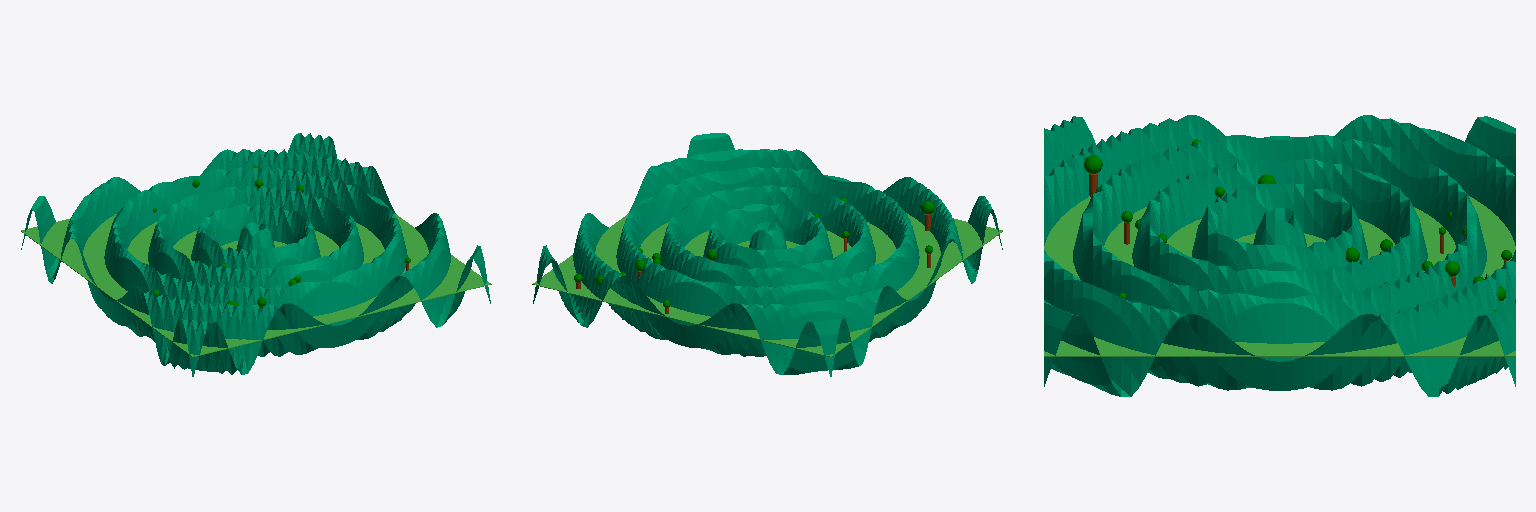
--- Render facts (derived) ---
The picture shows the robot from 3 angles, left to right: view 1: azimuth 30°, elevation 25°; view 2: azimuth 150°, elevation 25°; view 3: azimuth 270°, elevation 25°; orthographic projection.
Robot: environment — 28 links, 27 joints (27 fixed); root link root; default pose: every joint at zero.
Links seen in each view (by area): view 1: terrain, ground_plane; view 2: terrain, ground_plane; view 3: terrain, ground_plane.
Boxes of the visible links, x1,y1,x2,y2 form: terrain: (21,133,490,376); ground_plane: (21,214,491,356); terrain: (533,133,1002,376); ground_plane: (532,213,1002,356); terrain: (1044,115,1515,396); ground_plane: (1044,196,1515,356).
Bounding box of the posed robot: 50 × 50 × 10 m (x, y, z).
1 mesh visuals loaded from 1 distinct referenced files (1 OBJ).

The robot description file, URDF, robot "environment":
<?xml version="1.0" ?>
<robot name="environment">

        <link name="root">
            <inertial>
                <origin xyz="0 0 0" rpy="0 0 0"/>
                <mass value="0"/>
                <inertia ixx="1" ixy="0" ixz="0" iyy="1" iyz="0" izz="1"/>
            </inertial>
        </link>
    
        <link name="ground_plane">
            <inertial>
                <origin xyz="0 0 -0.05" rpy="0 0 0"/>
                <mass value="0"/>
                <inertia ixx="1" ixy="0" ixz="0" iyy="1" iyz="0" izz="1"/>
            </inertial>
            <collision>
                <geometry>
                    <box size="50 50 0.1"/>
                </geometry>
            </collision>
            <visual>
                <geometry>
                    <box size="50 50 0.1"/>
                </geometry>
                <material name="ground_color">
                    <color rgba="0.3 0.7 0.3 1.0"/> <!-- Greenish color -->
                </material>
            </visual>
        </link>
    
        <joint name="joint_ground_plane" type="fixed">
            <parent link="root"/>
            <child link="ground_plane"/>
            <origin xyz="0 0 0" rpy="0 0 0"/>
        </joint>
    
        <link name="terrain">
            <inertial>
                <origin xyz="0 0 0" rpy="0 0 0"/>
                <mass value="0"/>
                <inertia ixx="1" ixy="0" ixz="0" iyy="1" iyz="0" izz="1"/>
            </inertial>
            <collision>
                <geometry>
                    <mesh filename="terrain.obj"/>
                </geometry>
            </collision>
            <visual>
                <geometry>
                    <mesh filename="terrain.obj"/>
                </geometry>
            </visual>
        </link>
    
        <joint name="joint_terrain" type="fixed">
            <parent link="root"/>
            <child link="terrain"/>
            <origin xyz="0 0 0" rpy="0 0 0"/>
        </joint>
    
        <link name="tree_0">
            <!-- Trunk (cylinder) -->
            <collision name="trunk_collision">
                <origin xyz="0 0 0.5996430116396985" rpy="0 0 0"/>
                <geometry>
                    <cylinder length="1.199286023279397" radius="0.3406641067586877"/>
                </geometry>
            </collision>
            <visual name="trunk_visual">
                <origin xyz="0 0 0.5996430116396985" rpy="0 0 0"/>
                <geometry>
                    <cylinder length="1.199286023279397" radius="0.3406641067586877"/>
                </geometry>
                <material name="brown">
                    <color rgba="0.545 0.271 0.075 1.0"/> <!-- Brown color -->
                </material>
            </visual>
            
            <!-- Foliage (sphere) -->
            <collision name="foliage_collision">
                <origin xyz="0 0 1.8806142367967724" rpy="0 0 0"/>
                <geometry>
                    <sphere radius="0.6813282135173754"/>
                </geometry>
            </collision>
            <visual name="foliage_visual">
                <origin xyz="0 0 1.8806142367967724" rpy="0 0 0"/>
                <geometry>
                    <sphere radius="0.6813282135173754"/>
                </geometry>
                <material name="dark_green">
                    <color rgba="0 0.5 0 1.0"/> <!-- Dark green color -->
                </material>
            </visual>

            <inertial>
                <origin xyz="0 0 1.280971225157074" rpy="0 0 0"/>
                <mass value="10"/> <!-- Using the trunk mass for the whole tree, but this can be refined further -->
                <inertia ixx="0.5802601681684728" ixy="0" ixz="0" iyy="0.5802601681684728" iyz="0" izz="1.1605203363369456"/>
            </inertial>
        </link>
    
        <joint name="joint_tree_0" type="fixed">
            <parent link="root"/>
            <child link="tree_0"/>
            <origin xyz="11.948025421138318 11.519408089252302 0" rpy="0 0 0"/>
        </joint>
    
        <link name="tree_1">
            <!-- Trunk (cylinder) -->
            <collision name="trunk_collision">
                <origin xyz="0 0 1.0813332220270095" rpy="0 0 0"/>
                <geometry>
                    <cylinder length="2.162666444054019" radius="0.3407469483732677"/>
                </geometry>
            </collision>
            <visual name="trunk_visual">
                <origin xyz="0 0 1.0813332220270095" rpy="0 0 0"/>
                <geometry>
                    <cylinder length="2.162666444054019" radius="0.3407469483732677"/>
                </geometry>
                <material name="brown">
                    <color rgba="0.545 0.271 0.075 1.0"/> <!-- Brown color -->
                </material>
            </visual>
            
            <!-- Foliage (sphere) -->
            <collision name="foliage_collision">
                <origin xyz="0 0 2.8441603408005545" rpy="0 0 0"/>
                <geometry>
                    <sphere radius="0.6814938967465354"/>
                </geometry>
            </collision>
            <visual name="foliage_visual">
                <origin xyz="0 0 2.8441603408005545" rpy="0 0 0"/>
                <geometry>
                    <sphere radius="0.6814938967465354"/>
                </geometry>
                <material name="dark_green">
                    <color rgba="0 0.5 0 1.0"/> <!-- Dark green color -->
                </material>
            </visual>

            <inertial>
                <origin xyz="0 0 1.762827118773545" rpy="0 0 0"/>
                <mass value="10"/> <!-- Using the trunk mass for the whole tree, but this can be refined further -->
                <inertia ixx="0.5805424141284719" ixy="0" ixz="0" iyy="0.5805424141284719" iyz="0" izz="1.1610848282569437"/>
            </inertial>
        </link>
    
        <joint name="joint_tree_1" type="fixed">
            <parent link="root"/>
            <child link="tree_1"/>
            <origin xyz="-9.934047274985636 -18.90864924617136 0" rpy="0 0 0"/>
        </joint>
    
        <link name="tree_2">
            <!-- Trunk (cylinder) -->
            <collision name="trunk_collision">
                <origin xyz="0 0 0.532341764134034" rpy="0 0 0"/>
                <geometry>
                    <cylinder length="1.064683528268068" radius="0.2854548021140997"/>
                </geometry>
            </collision>
            <visual name="trunk_visual">
                <origin xyz="0 0 0.532341764134034" rpy="0 0 0"/>
                <geometry>
                    <cylinder length="1.064683528268068" radius="0.2854548021140997"/>
                </geometry>
                <material name="brown">
                    <color rgba="0.545 0.271 0.075 1.0"/> <!-- Brown color -->
                </material>
            </visual>
            
            <!-- Foliage (sphere) -->
            <collision name="foliage_collision">
                <origin xyz="0 0 1.6355931324962674" rpy="0 0 0"/>
                <geometry>
                    <sphere radius="0.5709096042281994"/>
                </geometry>
            </collision>
            <visual name="foliage_visual">
                <origin xyz="0 0 1.6355931324962674" rpy="0 0 0"/>
                <geometry>
                    <sphere radius="0.5709096042281994"/>
                </geometry>
                <material name="dark_green">
                    <color rgba="0 0.5 0 1.0"/> <!-- Dark green color -->
                </material>
            </visual>

            <inertial>
                <origin xyz="0 0 1.1032513683622334" rpy="0 0 0"/>
                <mass value="10"/> <!-- Using the trunk mass for the whole tree, but this can be refined further -->
                <inertia ixx="0.4074222202499991" ixy="0" ixz="0" iyy="0.4074222202499991" iyz="0" izz="0.8148444404999982"/>
            </inertial>
        </link>
    
        <joint name="joint_tree_2" type="fixed">
            <parent link="root"/>
            <child link="tree_2"/>
            <origin xyz="-0.7882544350234717 -12.517028062190233 0" rpy="0 0 0"/>
        </joint>
    
        <link name="tree_3">
            <!-- Trunk (cylinder) -->
            <collision name="trunk_collision">
                <origin xyz="0 0 0.9814742911687262" rpy="0 0 0"/>
                <geometry>
                    <cylinder length="1.9629485823374524" radius="0.3323499947751118"/>
                </geometry>
            </collision>
            <visual name="trunk_visual">
                <origin xyz="0 0 0.9814742911687262" rpy="0 0 0"/>
                <geometry>
                    <cylinder length="1.9629485823374524" radius="0.3323499947751118"/>
                </geometry>
                <material name="brown">
                    <color rgba="0.545 0.271 0.075 1.0"/> <!-- Brown color -->
                </material>
            </visual>
            
            <!-- Foliage (sphere) -->
            <collision name="foliage_collision">
                <origin xyz="0 0 2.627648571887676" rpy="0 0 0"/>
                <geometry>
                    <sphere radius="0.6646999895502236"/>
                </geometry>
            </collision>
            <visual name="foliage_visual">
                <origin xyz="0 0 2.627648571887676" rpy="0 0 0"/>
                <geometry>
                    <sphere radius="0.6646999895502236"/>
                </geometry>
                <material name="dark_green">
                    <color rgba="0 0.5 0 1.0"/> <!-- Dark green color -->
                </material>
            </visual>

            <inertial>
                <origin xyz="0 0 1.6461742807189497" rpy="0 0 0"/>
                <mass value="10"/> <!-- Using the trunk mass for the whole tree, but this can be refined further -->
                <inertia ixx="0.5522825951350842" ixy="0" ixz="0" iyy="0.5522825951350842" iyz="0" izz="1.1045651902701683"/>
            </inertial>
        </link>
    
        <joint name="joint_tree_3" type="fixed">
            <parent link="root"/>
            <child link="tree_3"/>
            <origin xyz="12.16579089381188 21.132534835362172 0" rpy="0 0 0"/>
        </joint>
    
        <link name="tree_4">
            <!-- Trunk (cylinder) -->
            <collision name="trunk_collision">
                <origin xyz="0 0 1.1878052840056328" rpy="0 0 0"/>
                <geometry>
                    <cylinder length="2.3756105680112656" radius="0.28998131001357164"/>
                </geometry>
            </collision>
            <visual name="trunk_visual">
                <origin xyz="0 0 1.1878052840056328" rpy="0 0 0"/>
                <geometry>
                    <cylinder length="2.3756105680112656" radius="0.28998131001357164"/>
                </geometry>
                <material name="brown">
                    <color rgba="0.545 0.271 0.075 1.0"/> <!-- Brown color -->
                </material>
            </visual>
            
            <!-- Foliage (sphere) -->
            <collision name="foliage_collision">
                <origin xyz="0 0 2.955573188038409" rpy="0 0 0"/>
                <geometry>
                    <sphere radius="0.5799626200271433"/>
                </geometry>
            </collision>
            <visual name="foliage_visual">
                <origin xyz="0 0 2.955573188038409" rpy="0 0 0"/>
                <geometry>
                    <sphere radius="0.5799626200271433"/>
                </geometry>
                <material name="dark_green">
                    <color rgba="0 0.5 0 1.0"/> <!-- Dark green color -->
                </material>
            </visual>

            <inertial>
                <origin xyz="0 0 1.767767904032776" rpy="0 0 0"/>
                <mass value="10"/> <!-- Using the trunk mass for the whole tree, but this can be refined further -->
                <inertia ixx="0.42044580078593574" ixy="0" ixz="0" iyy="0.42044580078593574" iyz="0" izz="0.8408916015718715"/>
            </inertial>
        </link>
    
        <joint name="joint_tree_4" type="fixed">
            <parent link="root"/>
            <child link="tree_4"/>
            <origin xyz="-1.64311374934789 -14.805134412026561 0" rpy="0 0 0"/>
        </joint>
    
        <link name="tree_5">
            <!-- Trunk (cylinder) -->
            <collision name="trunk_collision">
                <origin xyz="0 0 1.304044293926479" rpy="0 0 0"/>
                <geometry>
                    <cylinder length="2.608088587852958" radius="0.49888896950934386"/>
                </geometry>
            </collision>
            <visual name="trunk_visual">
                <origin xyz="0 0 1.304044293926479" rpy="0 0 0"/>
                <geometry>
                    <cylinder length="2.608088587852958" radius="0.49888896950934386"/>
                </geometry>
                <material name="brown">
                    <color rgba="0.545 0.271 0.075 1.0"/> <!-- Brown color -->
                </material>
            </visual>
            
            <!-- Foliage (sphere) -->
            <collision name="foliage_collision">
                <origin xyz="0 0 3.6058665268716457" rpy="0 0 0"/>
                <geometry>
                    <sphere radius="0.9977779390186877"/>
                </geometry>
            </collision>
            <visual name="foliage_visual">
                <origin xyz="0 0 3.6058665268716457" rpy="0 0 0"/>
                <geometry>
                    <sphere radius="0.9977779390186877"/>
                </geometry>
                <material name="dark_green">
                    <color rgba="0 0.5 0 1.0"/> <!-- Dark green color -->
                </material>
            </visual>

            <inertial>
                <origin xyz="0 0 2.3018222329451667" rpy="0 0 0"/>
                <mass value="10"/> <!-- Using the trunk mass for the whole tree, but this can be refined further -->
                <inertia ixx="1.2444510194904752" ixy="0" ixz="0" iyy="1.2444510194904752" iyz="0" izz="2.4889020389809504"/>
            </inertial>
        </link>
    
        <joint name="joint_tree_5" type="fixed">
            <parent link="root"/>
            <child link="tree_5"/>
            <origin xyz="-15.379580251750852 -19.81397397872788 0" rpy="0 0 0"/>
        </joint>
    
        <link name="tree_6">
            <!-- Trunk (cylinder) -->
            <collision name="trunk_collision">
                <origin xyz="0 0 0.5029585238771646" rpy="0 0 0"/>
                <geometry>
                    <cylinder length="1.005917047754329" radius="0.3192838313051147"/>
                </geometry>
            </collision>
            <visual name="trunk_visual">
                <origin xyz="0 0 0.5029585238771646" rpy="0 0 0"/>
                <geometry>
                    <cylinder length="1.005917047754329" radius="0.3192838313051147"/>
                </geometry>
                <material name="brown">
                    <color rgba="0.545 0.271 0.075 1.0"/> <!-- Brown color -->
                </material>
            </visual>
            
            <!-- Foliage (sphere) -->
            <collision name="foliage_collision">
                <origin xyz="0 0 1.6444847103645586" rpy="0 0 0"/>
                <geometry>
                    <sphere radius="0.6385676626102293"/>
                </geometry>
            </collision>
            <visual name="foliage_visual">
                <origin xyz="0 0 1.6444847103645586" rpy="0 0 0"/>
                <geometry>
                    <sphere radius="0.6385676626102293"/>
                </geometry>
                <material name="dark_green">
                    <color rgba="0 0.5 0 1.0"/> <!-- Dark green color -->
                </material>
            </visual>

            <inertial>
                <origin xyz="0 0 1.1415261864873938" rpy="0 0 0"/>
                <mass value="10"/> <!-- Using the trunk mass for the whole tree, but this can be refined further -->
                <inertia ixx="0.5097108246643646" ixy="0" ixz="0" iyy="0.5097108246643646" iyz="0" izz="1.0194216493287291"/>
            </inertial>
        </link>
    
        <joint name="joint_tree_6" type="fixed">
            <parent link="root"/>
            <child link="tree_6"/>
            <origin xyz="18.488172834970058 22.957965662669473 0" rpy="0 0 0"/>
        </joint>
    
        <link name="tree_7">
            <!-- Trunk (cylinder) -->
            <collision name="trunk_collision">
                <origin xyz="0 0 1.3618291482598335" rpy="0 0 0"/>
                <geometry>
                    <cylinder length="2.723658296519667" radius="0.27122111345131394"/>
                </geometry>
            </collision>
            <visual name="trunk_visual">
                <origin xyz="0 0 1.3618291482598335" rpy="0 0 0"/>
                <geometry>
                    <cylinder length="2.723658296519667" radius="0.27122111345131394"/>
                </geometry>
                <material name="brown">
                    <color rgba="0.545 0.271 0.075 1.0"/> <!-- Brown color -->
                </material>
            </visual>
            
            <!-- Foliage (sphere) -->
            <collision name="foliage_collision">
                <origin xyz="0 0 3.2661005234222946" rpy="0 0 0"/>
                <geometry>
                    <sphere radius="0.5424422269026279"/>
                </geometry>
            </collision>
            <visual name="foliage_visual">
                <origin xyz="0 0 3.2661005234222946" rpy="0 0 0"/>
                <geometry>
                    <sphere radius="0.5424422269026279"/>
                </geometry>
                <material name="dark_green">
                    <color rgba="0 0.5 0 1.0"/> <!-- Dark green color -->
                </material>
            </visual>

            <inertial>
                <origin xyz="0 0 1.9042713751624614" rpy="0 0 0"/>
                <mass value="10"/> <!-- Using the trunk mass for the whole tree, but this can be refined further -->
                <inertia ixx="0.3678044619088525" ixy="0" ixz="0" iyy="0.3678044619088525" iyz="0" izz="0.735608923817705"/>
            </inertial>
        </link>
    
        <joint name="joint_tree_7" type="fixed">
            <parent link="root"/>
            <child link="tree_7"/>
            <origin xyz="-9.262282485212058 -6.410730488483445 0" rpy="0 0 0"/>
        </joint>
    
        <link name="tree_8">
            <!-- Trunk (cylinder) -->
            <collision name="trunk_collision">
                <origin xyz="0 0 0.7325827319463079" rpy="0 0 0"/>
                <geometry>
                    <cylinder length="1.4651654638926157" radius="0.44234801459906303"/>
                </geometry>
            </collision>
            <visual name="trunk_visual">
                <origin xyz="0 0 0.7325827319463079" rpy="0 0 0"/>
                <geometry>
                    <cylinder length="1.4651654638926157" radius="0.44234801459906303"/>
                </geometry>
                <material name="brown">
                    <color rgba="0.545 0.271 0.075 1.0"/> <!-- Brown color -->
                </material>
            </visual>
            
            <!-- Foliage (sphere) -->
            <collision name="foliage_collision">
                <origin xyz="0 0 2.3498614930907418" rpy="0 0 0"/>
                <geometry>
                    <sphere radius="0.8846960291981261"/>
                </geometry>
            </collision>
            <visual name="foliage_visual">
                <origin xyz="0 0 2.3498614930907418" rpy="0 0 0"/>
                <geometry>
                    <sphere radius="0.8846960291981261"/>
                </geometry>
                <material name="dark_green">
                    <color rgba="0 0.5 0 1.0"/> <!-- Dark green color -->
                </material>
            </visual>

            <inertial>
                <origin xyz="0 0 1.617278761144434" rpy="0 0 0"/>
                <mass value="10"/> <!-- Using the trunk mass for the whole tree, but this can be refined further -->
                <inertia ixx="0.9783588300986644" ixy="0" ixz="0" iyy="0.9783588300986644" iyz="0" izz="1.9567176601973288"/>
            </inertial>
        </link>
    
        <joint name="joint_tree_8" type="fixed">
            <parent link="root"/>
            <child link="tree_8"/>
            <origin xyz="14.42786742207472 23.15237298429563 0" rpy="0 0 0"/>
        </joint>
    
        <link name="tree_9">
            <!-- Trunk (cylinder) -->
            <collision name="trunk_collision">
                <origin xyz="0 0 1.385558665846725" rpy="0 0 0"/>
                <geometry>
                    <cylinder length="2.77111733169345" radius="0.3672121962586579"/>
                </geometry>
            </collision>
            <visual name="trunk_visual">
                <origin xyz="0 0 1.385558665846725" rpy="0 0 0"/>
                <geometry>
                    <cylinder length="2.77111733169345" radius="0.3672121962586579"/>
                </geometry>
                <material name="brown">
                    <color rgba="0.545 0.271 0.075 1.0"/> <!-- Brown color -->
                </material>
            </visual>
            
            <!-- Foliage (sphere) -->
            <collision name="foliage_collision">
                <origin xyz="0 0 3.5055417242107656" rpy="0 0 0"/>
                <geometry>
                    <sphere radius="0.7344243925173158"/>
                </geometry>
            </collision>
            <visual name="foliage_visual">
                <origin xyz="0 0 3.5055417242107656" rpy="0 0 0"/>
                <geometry>
                    <sphere radius="0.7344243925173158"/>
                </geometry>
                <material name="dark_green">
                    <color rgba="0 0.5 0 1.0"/> <!-- Dark green color -->
                </material>
            </visual>

            <inertial>
                <origin xyz="0 0 2.1199830583640407" rpy="0 0 0"/>
                <mass value="10"/> <!-- Using the trunk mass for the whole tree, but this can be refined further -->
                <inertia ixx="0.6742239854055355" ixy="0" ixz="0" iyy="0.6742239854055355" iyz="0" izz="1.348447970811071"/>
            </inertial>
        </link>
    
        <joint name="joint_tree_9" type="fixed">
            <parent link="root"/>
            <child link="tree_9"/>
            <origin xyz="1.3450031769885022 20.078627628362035 0" rpy="0 0 0"/>
        </joint>
    
        <link name="tree_10">
            <!-- Trunk (cylinder) -->
            <collision name="trunk_collision">
                <origin xyz="0 0 0.669023974494744" rpy="0 0 0"/>
                <geometry>
                    <cylinder length="1.338047948989488" radius="0.21035322866546297"/>
                </geometry>
            </collision>
            <visual name="trunk_visual">
                <origin xyz="0 0 0.669023974494744" rpy="0 0 0"/>
                <geometry>
                    <cylinder length="1.338047948989488" radius="0.21035322866546297"/>
                </geometry>
                <material name="brown">
                    <color rgba="0.545 0.271 0.075 1.0"/> <!-- Brown color -->
                </material>
            </visual>
            
            <!-- Foliage (sphere) -->
            <collision name="foliage_collision">
                <origin xyz="0 0 1.758754406320414" rpy="0 0 0"/>
                <geometry>
                    <sphere radius="0.42070645733092593"/>
                </geometry>
            </collision>
            <visual name="foliage_visual">
                <origin xyz="0 0 1.758754406320414" rpy="0 0 0"/>
                <geometry>
                    <sphere radius="0.42070645733092593"/>
                </geometry>
                <material name="dark_green">
                    <color rgba="0 0.5 0 1.0"/> <!-- Dark green color -->
                </material>
            </visual>

            <inertial>
                <origin xyz="0 0 1.08973043182567" rpy="0 0 0"/>
                <mass value="10"/> <!-- Using the trunk mass for the whole tree, but this can be refined further -->
                <inertia ixx="0.22124240404992276" ixy="0" ixz="0" iyy="0.22124240404992276" iyz="0" izz="0.44248480809984553"/>
            </inertial>
        </link>
    
        <joint name="joint_tree_10" type="fixed">
            <parent link="root"/>
            <child link="tree_10"/>
            <origin xyz="-6.564705197327424 18.27944410469876 0" rpy="0 0 0"/>
        </joint>
    
        <link name="tree_11">
            <!-- Trunk (cylinder) -->
            <collision name="trunk_collision">
                <origin xyz="0 0 1.2658278575819715" rpy="0 0 0"/>
                <geometry>
                    <cylinder length="2.531655715163943" radius="0.3097343517320509"/>
                </geometry>
            </collision>
            <visual name="trunk_visual">
                <origin xyz="0 0 1.2658278575819715" rpy="0 0 0"/>
                <geometry>
                    <cylinder length="2.531655715163943" radius="0.3097343517320509"/>
                </geometry>
                <material name="brown">
                    <color rgba="0.545 0.271 0.075 1.0"/> <!-- Brown color -->
                </material>
            </visual>
            
            <!-- Foliage (sphere) -->
            <collision name="foliage_collision">
                <origin xyz="0 0 3.1511244186280445" rpy="0 0 0"/>
                <geometry>
                    <sphere radius="0.6194687034641018"/>
                </geometry>
            </collision>
            <visual name="foliage_visual">
                <origin xyz="0 0 3.1511244186280445" rpy="0 0 0"/>
                <geometry>
                    <sphere radius="0.6194687034641018"/>
                </geometry>
                <material name="dark_green">
                    <color rgba="0 0.5 0 1.0"/> <!-- Dark green color -->
                </material>
            </visual>

            <inertial>
                <origin xyz="0 0 1.8852965610460732" rpy="0 0 0"/>
                <mass value="10"/> <!-- Using the trunk mass for the whole tree, but this can be refined further -->
                <inertia ixx="0.4796768432143691" ixy="0" ixz="0" iyy="0.4796768432143691" iyz="0" izz="0.9593536864287382"/>
            </inertial>
        </link>
    
        <joint name="joint_tree_11" type="fixed">
            <parent link="root"/>
            <child link="tree_11"/>
            <origin xyz="-3.212483425322567 -16.223820774403123 0" rpy="0 0 0"/>
        </joint>
    
        <link name="tree_12">
            <!-- Trunk (cylinder) -->
            <collision name="trunk_collision">
                <origin xyz="0 0 0.7054031535424218" rpy="0 0 0"/>
                <geometry>
                    <cylinder length="1.4108063070848436" radius="0.33995619483044603"/>
                </geometry>
            </collision>
            <visual name="trunk_visual">
                <origin xyz="0 0 0.7054031535424218" rpy="0 0 0"/>
                <geometry>
                    <cylinder length="1.4108063070848436" radius="0.33995619483044603"/>
                </geometry>
                <material name="brown">
                    <color rgba="0.545 0.271 0.075 1.0"/> <!-- Brown color -->
                </material>
            </visual>
            
            <!-- Foliage (sphere) -->
            <collision name="foliage_collision">
                <origin xyz="0 0 2.0907186967457356" rpy="0 0 0"/>
                <geometry>
                    <sphere radius="0.6799123896608921"/>
                </geometry>
            </collision>
            <visual name="foliage_visual">
                <origin xyz="0 0 2.0907186967457356" rpy="0 0 0"/>
                <geometry>
                    <sphere radius="0.6799123896608921"/>
                </geometry>
                <material name="dark_green">
                    <color rgba="0 0.5 0 1.0"/> <!-- Dark green color -->
                </material>
            </visual>

            <inertial>
                <origin xyz="0 0 1.3853155432033137" rpy="0 0 0"/>
                <mass value="10"/> <!-- Using the trunk mass for the whole tree, but this can be refined further -->
                <inertia ixx="0.5778510720179809" ixy="0" ixz="0" iyy="0.5778510720179809" iyz="0" izz="1.1557021440359618"/>
            </inertial>
        </link>
    
        <joint name="joint_tree_12" type="fixed">
            <parent link="root"/>
            <child link="tree_12"/>
            <origin xyz="1.7276829432076148 11.30918754576998 0" rpy="0 0 0"/>
        </joint>
    
        <link name="tree_13">
            <!-- Trunk (cylinder) -->
            <collision name="trunk_collision">
                <origin xyz="0 0 1.0969581210953998" rpy="0 0 0"/>
                <geometry>
                    <cylinder length="2.1939162421907996" radius="0.31339804190625"/>
                </geometry>
            </collision>
            <visual name="trunk_visual">
                <origin xyz="0 0 1.0969581210953998" rpy="0 0 0"/>
                <geometry>
                    <cylinder length="2.1939162421907996" radius="0.31339804190625"/>
                </geometry>
                <material name="brown">
                    <color rgba="0.545 0.271 0.075 1.0"/> <!-- Brown color -->
                </material>
            </visual>
            
            <!-- Foliage (sphere) -->
            <collision name="foliage_collision">
                <origin xyz="0 0 2.8207123260032994" rpy="0 0 0"/>
                <geometry>
                    <sphere radius="0.6267960838125"/>
                </geometry>
            </collision>
            <visual name="foliage_visual">
                <origin xyz="0 0 2.8207123260032994" rpy="0 0 0"/>
                <geometry>
                    <sphere radius="0.6267960838125"/>
                </geometry>
                <material name="dark_green">
                    <color rgba="0 0.5 0 1.0"/> <!-- Dark green color -->
                </material>
            </visual>

            <inertial>
                <origin xyz="0 0 1.7237542049078998" rpy="0 0 0"/>
                <mass value="10"/> <!-- Using the trunk mass for the whole tree, but this can be refined further -->
                <inertia ixx="0.4910916633533581" ixy="0" ixz="0" iyy="0.4910916633533581" iyz="0" izz="0.9821833267067162"/>
            </inertial>
        </link>
    
        <joint name="joint_tree_13" type="fixed">
            <parent link="root"/>
            <child link="tree_13"/>
            <origin xyz="-21.909516902325343 -8.795126294052562 0" rpy="0 0 0"/>
        </joint>
    
        <link name="tree_14">
            <!-- Trunk (cylinder) -->
            <collision name="trunk_collision">
                <origin xyz="0 0 0.9339547407303398" rpy="0 0 0"/>
                <geometry>
                    <cylinder length="1.8679094814606796" radius="0.2191102225624131"/>
                </geometry>
            </collision>
            <visual name="trunk_visual">
                <origin xyz="0 0 0.9339547407303398" rpy="0 0 0"/>
                <geometry>
                    <cylinder length="1.8679094814606796" radius="0.2191102225624131"/>
                </geometry>
                <material name="brown">
                    <color rgba="0.545 0.271 0.075 1.0"/> <!-- Brown color -->
                </material>
            </visual>
            
            <!-- Foliage (sphere) -->
            <collision name="foliage_collision">
                <origin xyz="0 0 2.306129926585506" rpy="0 0 0"/>
                <geometry>
                    <sphere radius="0.4382204451248262"/>
                </geometry>
            </collision>
            <visual name="foliage_visual">
                <origin xyz="0 0 2.306129926585506" rpy="0 0 0"/>
                <geometry>
                    <sphere radius="0.4382204451248262"/>
                </geometry>
                <material name="dark_green">
                    <color rgba="0 0.5 0 1.0"/> <!-- Dark green color -->
                </material>
            </visual>

            <inertial>
                <origin xyz="0 0 1.372175185855166" rpy="0 0 0"/>
                <mass value="10"/> <!-- Using the trunk mass for the whole tree, but this can be refined further -->
                <inertia ixx="0.24004644815675102" ixy="0" ixz="0" iyy="0.24004644815675102" iyz="0" izz="0.48009289631350205"/>
            </inertial>
        </link>
    
        <joint name="joint_tree_14" type="fixed">
            <parent link="root"/>
            <child link="tree_14"/>
            <origin xyz="-3.8532801192348707 6.098471255350685 0" rpy="0 0 0"/>
        </joint>
    
        <link name="tree_15">
            <!-- Trunk (cylinder) -->
            <collision name="trunk_collision">
                <origin xyz="0 0 0.9713569590029725" rpy="0 0 0"/>
                <geometry>
                    <cylinder length="1.942713918005945" radius="0.2901567801292813"/>
                </geometry>
            </collision>
            <visual name="trunk_visual">
                <origin xyz="0 0 0.9713569590029725" rpy="0 0 0"/>
                <geometry>
                    <cylinder length="1.942713918005945" radius="0.2901567801292813"/>
                </geometry>
                <material name="brown">
                    <color rgba="0.545 0.271 0.075 1.0"/> <!-- Brown color -->
                </material>
            </visual>
            
            <!-- Foliage (sphere) -->
            <collision name="foliage_collision">
                <origin xyz="0 0 2.5230274782645075" rpy="0 0 0"/>
                <geometry>
                    <sphere radius="0.5803135602585626"/>
                </geometry>
            </collision>
            <visual name="foliage_visual">
                <origin xyz="0 0 2.5230274782645075" rpy="0 0 0"/>
                <geometry>
                    <sphere radius="0.5803135602585626"/>
                </geometry>
                <material name="dark_green">
                    <color rgba="0 0.5 0 1.0"/> <!-- Dark green color -->
                </material>
            </visual>

            <inertial>
                <origin xyz="0 0 1.5516705192615352" rpy="0 0 0"/>
                <mass value="10"/> <!-- Using the trunk mass for the whole tree, but this can be refined further -->
                <inertia ixx="0.42095478527496044" ixy="0" ixz="0" iyy="0.42095478527496044" iyz="0" izz="0.8419095705499209"/>
            </inertial>
        </link>
    
        <joint name="joint_tree_15" type="fixed">
            <parent link="root"/>
            <child link="tree_15"/>
            <origin xyz="14.52642576865022 12.274399134236205 0" rpy="0 0 0"/>
        </joint>
    
        <link name="tree_16">
            <!-- Trunk (cylinder) -->
            <collision name="trunk_collision">
                <origin xyz="0 0 0.7975892709529938" rpy="0 0 0"/>
                <geometry>
                    <cylinder length="1.5951785419059876" radius="0.416296951722987"/>
                </geometry>
            </collision>
            <visual name="trunk_visual">
                <origin xyz="0 0 0.7975892709529938" rpy="0 0 0"/>
                <geometry>
                    <cylinder length="1.5951785419059876" radius="0.416296951722987"/>
                </geometry>
                <material name="brown">
                    <color rgba="0.545 0.271 0.075 1.0"/> <!-- Brown color -->
                </material>
            </visual>
            
            <!-- Foliage (sphere) -->
            <collision name="foliage_collision">
                <origin xyz="0 0 2.4277724453519616" rpy="0 0 0"/>
                <geometry>
                    <sphere radius="0.832593903445974"/>
                </geometry>
            </collision>
            <visual name="foliage_visual">
                <origin xyz="0 0 2.4277724453519616" rpy="0 0 0"/>
                <geometry>
                    <sphere radius="0.832593903445974"/>
                </geometry>
                <material name="dark_green">
                    <color rgba="0 0.5 0 1.0"/> <!-- Dark green color -->
                </material>
            </visual>

            <inertial>
                <origin xyz="0 0 1.6301831743989679" rpy="0 0 0"/>
                <mass value="10"/> <!-- Using the trunk mass for the whole tree, but this can be refined further -->
                <inertia ixx="0.8665157600692547" ixy="0" ixz="0" iyy="0.8665157600692547" iyz="0" izz="1.7330315201385094"/>
            </inertial>
        </link>
    
        <joint name="joint_tree_16" type="fixed">
            <parent link="root"/>
            <child link="tree_16"/>
            <origin xyz="4.875110886231116 7.656652257982081 0" rpy="0 0 0"/>
        </joint>
    
        <link name="tree_17">
            <!-- Trunk (cylinder) -->
            <collision name="trunk_collision">
                <origin xyz="0 0 1.083940171186259" rpy="0 0 0"/>
                <geometry>
                    <cylinder length="2.167880342372518" radius="0.22924950329651939"/>
                </geometry>
            </collision>
            <visual name="trunk_visual">
                <origin xyz="0 0 1.083940171186259" rpy="0 0 0"/>
                <geometry>
                    <cylinder length="2.167880342372518" radius="0.22924950329651939"/>
                </geometry>
                <material name="brown">
                    <color rgba="0.545 0.271 0.075 1.0"/> <!-- Brown color -->
                </material>
            </visual>
            
            <!-- Foliage (sphere) -->
            <collision name="foliage_collision">
                <origin xyz="0 0 2.626379348965557" rpy="0 0 0"/>
                <geometry>
                    <sphere radius="0.45849900659303877"/>
                </geometry>
            </collision>
            <visual name="foliage_visual">
                <origin xyz="0 0 2.626379348965557" rpy="0 0 0"/>
                <geometry>
                    <sphere radius="0.45849900659303877"/>
                </geometry>
                <material name="dark_green">
                    <color rgba="0 0.5 0 1.0"/> <!-- Dark green color -->
                </material>
            </visual>

            <inertial>
                <origin xyz="0 0 1.5424391777792978" rpy="0 0 0"/>
                <mass value="10"/> <!-- Using the trunk mass for the whole tree, but this can be refined further -->
                <inertia ixx="0.2627766738085042" ixy="0" ixz="0" iyy="0.2627766738085042" iyz="0" izz="0.5255533476170084"/>
            </inertial>
        </link>
    
        <joint name="joint_tree_17" type="fixed">
            <parent link="root"/>
            <child link="tree_17"/>
            <origin xyz="15.76789597002022 -16.71995346962313 0" rpy="0 0 0"/>
        </joint>
    
        <link name="tree_18">
            <!-- Trunk (cylinder) -->
            <collision name="trunk_collision">
                <origin xyz="0 0 1.3385872490837205" rpy="0 0 0"/>
                <geometry>
                    <cylinder length="2.677174498167441" radius="0.3004334880589909"/>
                </geometry>
            </collision>
            <visual name="trunk_visual">
                <origin xyz="0 0 1.3385872490837205" rpy="0 0 0"/>
                <geometry>
                    <cylinder length="2.677174498167441" radius="0.3004334880589909"/>
                </geometry>
                <material name="brown">
                    <color rgba="0.545 0.271 0.075 1.0"/> <!-- Brown color -->
                </material>
            </visual>
            
            <!-- Foliage (sphere) -->
            <collision name="foliage_collision">
                <origin xyz="0 0 3.278041474285423" rpy="0 0 0"/>
                <geometry>
                    <sphere radius="0.6008669761179818"/>
                </geometry>
            </collision>
            <visual name="foliage_visual">
                <origin xyz="0 0 3.278041474285423" rpy="0 0 0"/>
                <geometry>
                    <sphere radius="0.6008669761179818"/>
                </geometry>
                <material name="dark_green">
                    <color rgba="0 0.5 0 1.0"/> <!-- Dark green color -->
                </material>
            </visual>

            <inertial>
                <origin xyz="0 0 1.9394542252017022" rpy="0 0 0"/>
                <mass value="10"/> <!-- Using the trunk mass for the whole tree, but this can be refined further -->
                <inertia ixx="0.4513014037364591" ixy="0" ixz="0" iyy="0.4513014037364591" iyz="0" izz="0.9026028074729182"/>
            </inertial>
        </link>
    
        <joint name="joint_tree_18" type="fixed">
            <parent link="root"/>
            <child link="tree_18"/>
            <origin xyz="9.533196043748127 15.678574215878385 0" rpy="0 0 0"/>
        </joint>
    
        <link name="tree_19">
            <!-- Trunk (cylinder) -->
            <collision name="trunk_collision">
                <origin xyz="0 0 1.3788669756897391" rpy="0 0 0"/>
                <geometry>
                    <cylinder length="2.7577339513794783" radius="0.422962421521243"/>
                </geometry>
            </collision>
            <visual name="trunk_visual">
                <origin xyz="0 0 1.3788669756897391" rpy="0 0 0"/>
                <geometry>
                    <cylinder length="2.7577339513794783" radius="0.422962421521243"/>
                </geometry>
                <material name="brown">
                    <color rgba="0.545 0.271 0.075 1.0"/> <!-- Brown color -->
                </material>
            </visual>
            
            <!-- Foliage (sphere) -->
            <collision name="foliage_collision">
                <origin xyz="0 0 3.6036587944219645" rpy="0 0 0"/>
                <geometry>
                    <sphere radius="0.845924843042486"/>
                </geometry>
            </collision>
            <visual name="foliage_visual">
                <origin xyz="0 0 3.6036587944219645" rpy="0 0 0"/>
                <geometry>
                    <sphere radius="0.845924843042486"/>
                </geometry>
                <material name="dark_green">
                    <color rgba="0 0.5 0 1.0"/> <!-- Dark green color -->
                </material>
            </visual>

            <inertial>
                <origin xyz="0 0 2.2247918187322253" rpy="0 0 0"/>
                <mass value="10"/> <!-- Using the trunk mass for the whole tree, but this can be refined further -->
                <inertia ixx="0.8944860500955683" ixy="0" ixz="0" iyy="0.8944860500955683" iyz="0" izz="1.7889721001911365"/>
            </inertial>
        </link>
    
        <joint name="joint_tree_19" type="fixed">
            <parent link="root"/>
            <child link="tree_19"/>
            <origin xyz="10.774673993805244 18.239205945886717 0" rpy="0 0 0"/>
        </joint>
    
        <link name="tree_20">
            <!-- Trunk (cylinder) -->
            <collision name="trunk_collision">
                <origin xyz="0 0 0.8187969789637661" rpy="0 0 0"/>
                <geometry>
                    <cylinder length="1.6375939579275323" radius="0.4841670340938306"/>
                </geometry>
            </collision>
            <visual name="trunk_visual">
                <origin xyz="0 0 0.8187969789637661" rpy="0 0 0"/>
                <geometry>
                    <cylinder length="1.6375939579275323" radius="0.4841670340938306"/>
                </geometry>
                <material name="brown">
                    <color rgba="0.545 0.271 0.075 1.0"/> <!-- Brown color -->
                </material>
            </visual>
            
            <!-- Foliage (sphere) -->
            <collision name="foliage_collision">
                <origin xyz="0 0 2.6059280261151936" rpy="0 0 0"/>
                <geometry>
                    <sphere radius="0.9683340681876612"/>
                </geometry>
            </collision>
            <visual name="foliage_visual">
                <origin xyz="0 0 2.6059280261151936" rpy="0 0 0"/>
                <geometry>
                    <sphere radius="0.9683340681876612"/>
                </geometry>
                <material name="dark_green">
                    <color rgba="0 0.5 0 1.0"/> <!-- Dark green color -->
                </material>
            </visual>

            <inertial>
                <origin xyz="0 0 1.7871310471514272" rpy="0 0 0"/>
                <mass value="10"/> <!-- Using the trunk mass for the whole tree, but this can be refined further -->
                <inertia ixx="1.1720885845160827" ixy="0" ixz="0" iyy="1.1720885845160827" iyz="0" izz="2.3441771690321653"/>
            </inertial>
        </link>
    
        <joint name="joint_tree_20" type="fixed">
            <parent link="root"/>
            <child link="tree_20"/>
            <origin xyz="-12.776480418352465 -1.4035658095732764 0" rpy="0 0 0"/>
        </joint>
    
        <link name="tree_21">
            <!-- Trunk (cylinder) -->
            <collision name="trunk_collision">
                <origin xyz="0 0 1.097484254762103" rpy="0 0 0"/>
                <geometry>
                    <cylinder length="2.194968509524206" radius="0.20450316862984513"/>
                </geometry>
            </collision>
            <visual name="trunk_visual">
                <origin xyz="0 0 1.097484254762103" rpy="0 0 0"/>
                <geometry>
                    <cylinder length="2.194968509524206" radius="0.20450316862984513"/>
                </geometry>
                <material name="brown">
                    <color rgba="0.545 0.271 0.075 1.0"/> <!-- Brown color -->
                </material>
            </visual>
            
            <!-- Foliage (sphere) -->
            <collision name="foliage_collision">
                <origin xyz="0 0 2.6039748467838963" rpy="0 0 0"/>
                <geometry>
                    <sphere radius="0.40900633725969027"/>
                </geometry>
            </collision>
            <visual name="foliage_visual">
                <origin xyz="0 0 2.6039748467838963" rpy="0 0 0"/>
                <geometry>
                    <sphere radius="0.40900633725969027"/>
                </geometry>
                <material name="dark_green">
                    <color rgba="0 0.5 0 1.0"/> <!-- Dark green color -->
                </material>
            </visual>

            <inertial>
                <origin xyz="0 0 1.5064905920217933" rpy="0 0 0"/>
                <mass value="10"/> <!-- Using the trunk mass for the whole tree, but this can be refined further -->
                <inertia ixx="0.20910772989823437" ixy="0" ixz="0" iyy="0.20910772989823437" iyz="0" izz="0.41821545979646874"/>
            </inertial>
        </link>
    
        <joint name="joint_tree_21" type="fixed">
            <parent link="root"/>
            <child link="tree_21"/>
            <origin xyz="-0.8329400264379956 17.232570219018108 0" rpy="0 0 0"/>
        </joint>
    
        <link name="tree_22">
            <!-- Trunk (cylinder) -->
            <collision name="trunk_collision">
                <origin xyz="0 0 0.9802199762995182" rpy="0 0 0"/>
                <geometry>
                    <cylinder length="1.9604399525990364" radius="0.3214256730804615"/>
                </geometry>
            </collision>
            <visual name="trunk_visual">
                <origin xyz="0 0 0.9802199762995182" rpy="0 0 0"/>
                <geometry>
                    <cylinder length="1.9604399525990364" radius="0.3214256730804615"/>
                </geometry>
                <material name="brown">
                    <color rgba="0.545 0.271 0.075 1.0"/> <!-- Brown color -->
                </material>
            </visual>
            
            <!-- Foliage (sphere) -->
            <collision name="foliage_collision">
                <origin xyz="0 0 2.6032912987599595" rpy="0 0 0"/>
                <geometry>
                    <sphere radius="0.642851346160923"/>
                </geometry>
            </collision>
            <visual name="foliage_visual">
                <origin xyz="0 0 2.6032912987599595" rpy="0 0 0"/>
                <geometry>
                    <sphere radius="0.642851346160923"/>
                </geometry>
                <material name="dark_green">
                    <color rgba="0 0.5 0 1.0"/> <!-- Dark green color -->
                </material>
            </visual>

            <inertial>
                <origin xyz="0 0 1.6230713224604412" rpy="0 0 0"/>
                <mass value="10"/> <!-- Using the trunk mass for the whole tree, but this can be refined further -->
                <inertia ixx="0.5165723165761386" ixy="0" ixz="0" iyy="0.5165723165761386" iyz="0" izz="1.0331446331522771"/>
            </inertial>
        </link>
    
        <joint name="joint_tree_22" type="fixed">
            <parent link="root"/>
            <child link="tree_22"/>
            <origin xyz="9.802994594227172 10.112671716420621 0" rpy="0 0 0"/>
        </joint>
    
        <link name="tree_23">
            <!-- Trunk (cylinder) -->
            <collision name="trunk_collision">
                <origin xyz="0 0 0.9696196202611406" rpy="0 0 0"/>
                <geometry>
                    <cylinder length="1.9392392405222811" radius="0.37329918082863556"/>
                </geometry>
            </collision>
            <visual name="trunk_visual">
                <origin xyz="0 0 0.9696196202611406" rpy="0 0 0"/>
                <geometry>
                    <cylinder length="1.9392392405222811" radius="0.37329918082863556"/>
                </geometry>
                <material name="brown">
                    <color rgba="0.545 0.271 0.075 1.0"/> <!-- Brown color -->
                </material>
            </visual>
            
            <!-- Foliage (sphere) -->
            <collision name="foliage_collision">
                <origin xyz="0 0 2.6858376021795523" rpy="0 0 0"/>
                <geometry>
                    <sphere radius="0.7465983616572711"/>
                </geometry>
            </collision>
            <visual name="foliage_visual">
                <origin xyz="0 0 2.6858376021795523" rpy="0 0 0"/>
                <geometry>
                    <sphere radius="0.7465983616572711"/>
                </geometry>
                <material name="dark_green">
                    <color rgba="0 0.5 0 1.0"/> <!-- Dark green color -->
                </material>
            </visual>

            <inertial>
                <origin xyz="0 0 1.7162179819184118" rpy="0 0 0"/>
                <mass value="10"/> <!-- Using the trunk mass for the whole tree, but this can be refined further -->
                <inertia ixx="0.6967613920366518" ixy="0" ixz="0" iyy="0.6967613920366518" iyz="0" izz="1.3935227840733035"/>
            </inertial>
        </link>
    
        <joint name="joint_tree_23" type="fixed">
            <parent link="root"/>
            <child link="tree_23"/>
            <origin xyz="-7.88849509444497 18.72940134153054 0" rpy="0 0 0"/>
        </joint>
    
        <link name="tree_24">
            <!-- Trunk (cylinder) -->
            <collision name="trunk_collision">
                <origin xyz="0 0 0.507334753423716" rpy="0 0 0"/>
                <geometry>
                    <cylinder length="1.014669506847432" radius="0.2855880070839108"/>
                </geometry>
            </collision>
            <visual name="trunk_visual">
                <origin xyz="0 0 0.507334753423716" rpy="0 0 0"/>
                <geometry>
                    <cylinder length="1.014669506847432" radius="0.2855880070839108"/>
                </geometry>
                <material name="brown">
                    <color rgba="0.545 0.271 0.075 1.0"/> <!-- Brown color -->
                </material>
            </visual>
            
            <!-- Foliage (sphere) -->
            <collision name="foliage_collision">
                <origin xyz="0 0 1.5858455210152536" rpy="0 0 0"/>
                <geometry>
                    <sphere radius="0.5711760141678216"/>
                </geometry>
            </collision>
            <visual name="foliage_visual">
                <origin xyz="0 0 1.5858455210152536" rpy="0 0 0"/>
                <geometry>
                    <sphere radius="0.5711760141678216"/>
                </geometry>
                <material name="dark_green">
                    <color rgba="0 0.5 0 1.0"/> <!-- Dark green color -->
                </material>
            </visual>

            <inertial>
                <origin xyz="0 0 1.0785107675915375" rpy="0 0 0"/>
                <mass value="10"/> <!-- Using the trunk mass for the whole tree, but this can be refined further -->
                <inertia ixx="0.4078025489507994" ixy="0" ixz="0" iyy="0.4078025489507994" iyz="0" izz="0.8156050979015989"/>
            </inertial>
        </link>
    
        <joint name="joint_tree_24" type="fixed">
            <parent link="root"/>
            <child link="tree_24"/>
            <origin xyz="3.07096615270331 24.06003439702696 0" rpy="0 0 0"/>
        </joint>
    </robot>
